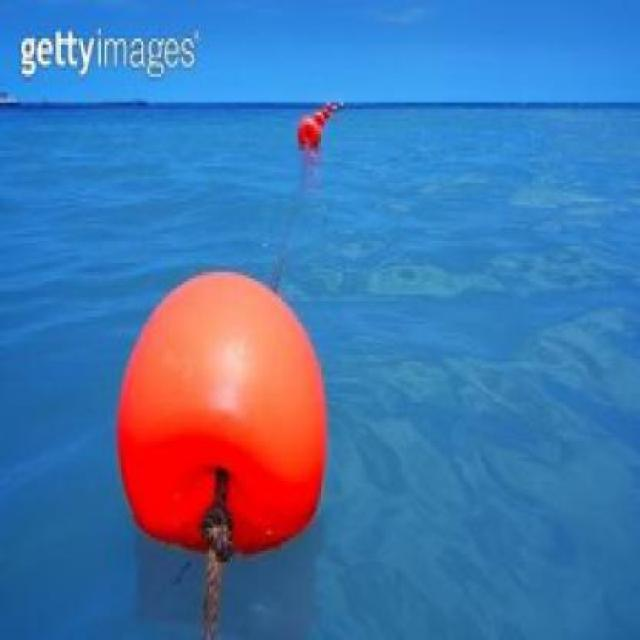a: (103, 260, 328, 565)
